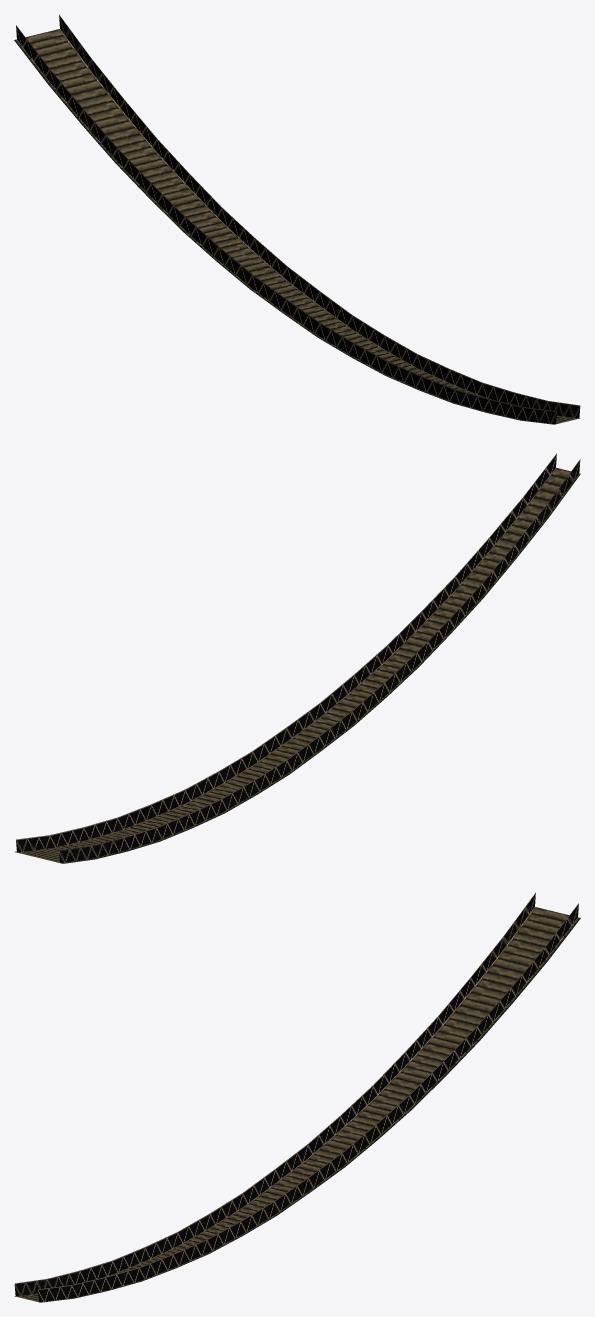
Rendered from pir_m_prp_str_ropeBridge_long.fbx.
3 views of the same model, one above another, from view 1: azimuth 30°, elevation 25°; view 2: azimuth 150°, elevation 25°; view 3: azimuth 330°, elevation 25° (orthographic).
Parts seen in each view (by area): view 1: floor, wall1, wall2; view 2: floor, wall2, wall1; view 3: floor, wall2, wall1.
Part boxes in pixels (x1=…): floor: x1=14, y1=29, x2=580, y2=424; wall1: x1=16, y1=25, x2=556, y2=424; wall2: x1=59, y1=14, x2=580, y2=418; floor: x1=15, y1=467, x2=580, y2=863; wall2: x1=16, y1=453, x2=556, y2=852; wall1: x1=59, y1=459, x2=580, y2=862; floor: x1=14, y1=907, x2=580, y2=1302; wall2: x1=38, y1=903, x2=578, y2=1302; wall1: x1=14, y1=892, x2=535, y2=1296.
Bounding box in the file's own units: 1561 × 2910 × 29294.
Materials: 1 (1 with a texture image).
